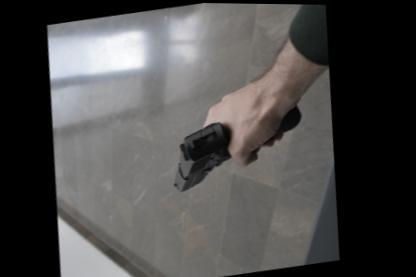pistol: (166, 98, 314, 192)
